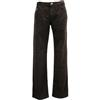abbigliamento_uomo: (32, 2, 67, 98)
